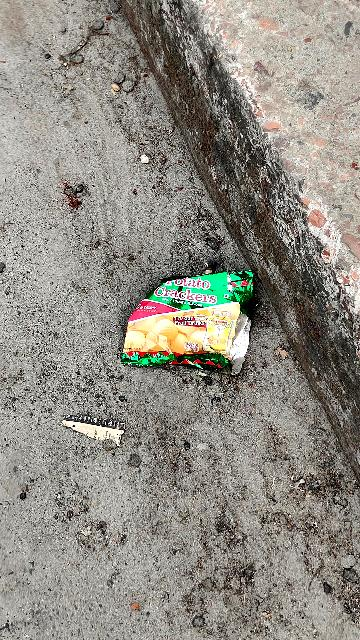packet: (122, 265, 270, 374)
